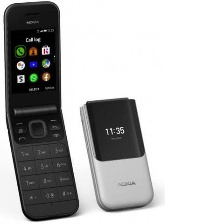phone: (2, 0, 81, 224), (78, 92, 164, 218)
